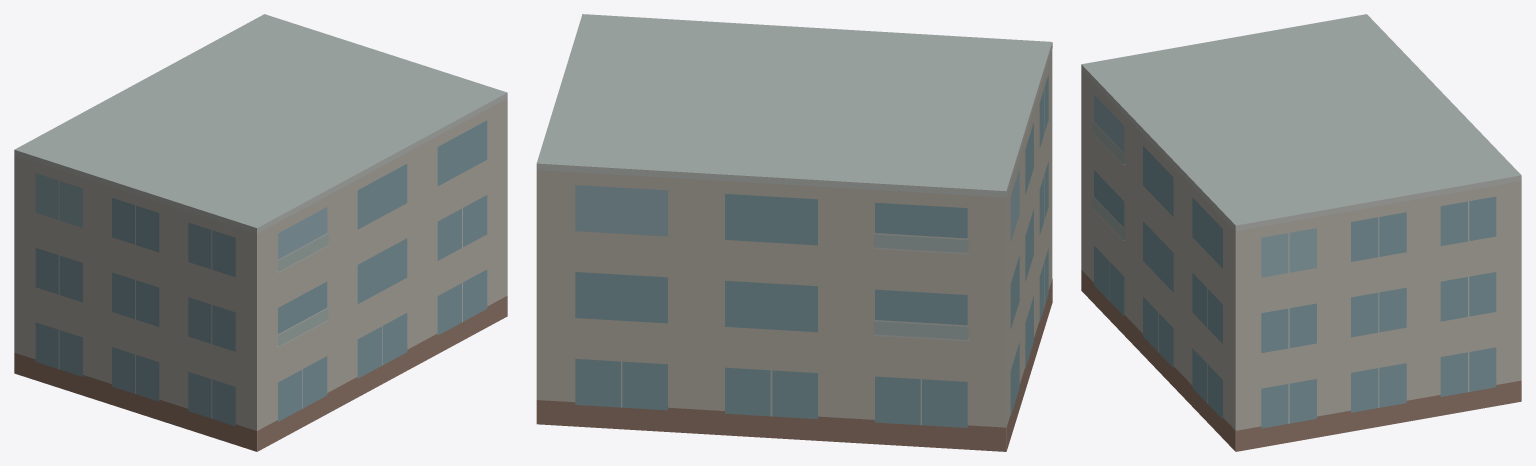
The model's file is survey-upis-32886711.glb.
3 renders of one model, left to right at view 1: azimuth 30°, elevation 25°; view 2: azimuth 150°, elevation 25°; view 3: azimuth 270°, elevation 25°, orthographic. The views are drawn at different scales.
Visible parts, largest first — view 1: survey-upis-32886711.tmp; view 2: survey-upis-32886711.tmp; view 3: survey-upis-32886711.tmp.
Part boxes in pixels (x1,y1,x2,y2): survey-upis-32886711.tmp: [14, 14, 507, 451]; survey-upis-32886711.tmp: [536, 14, 1052, 451]; survey-upis-32886711.tmp: [1081, 14, 1521, 451].
Bounding box in the file's own units: 19.66 × 9.8 × 17.29.
